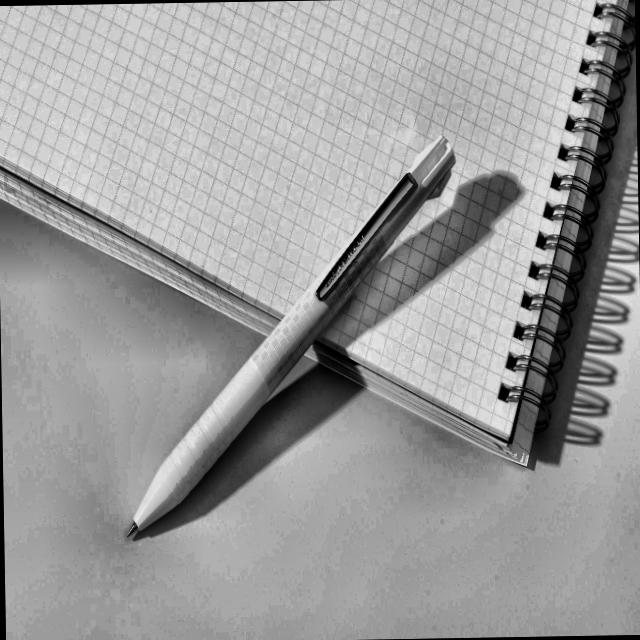Pen: (125, 138, 455, 542)
